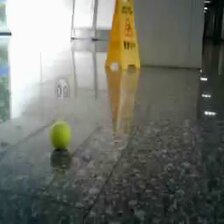tennis: (49, 121, 70, 149)
